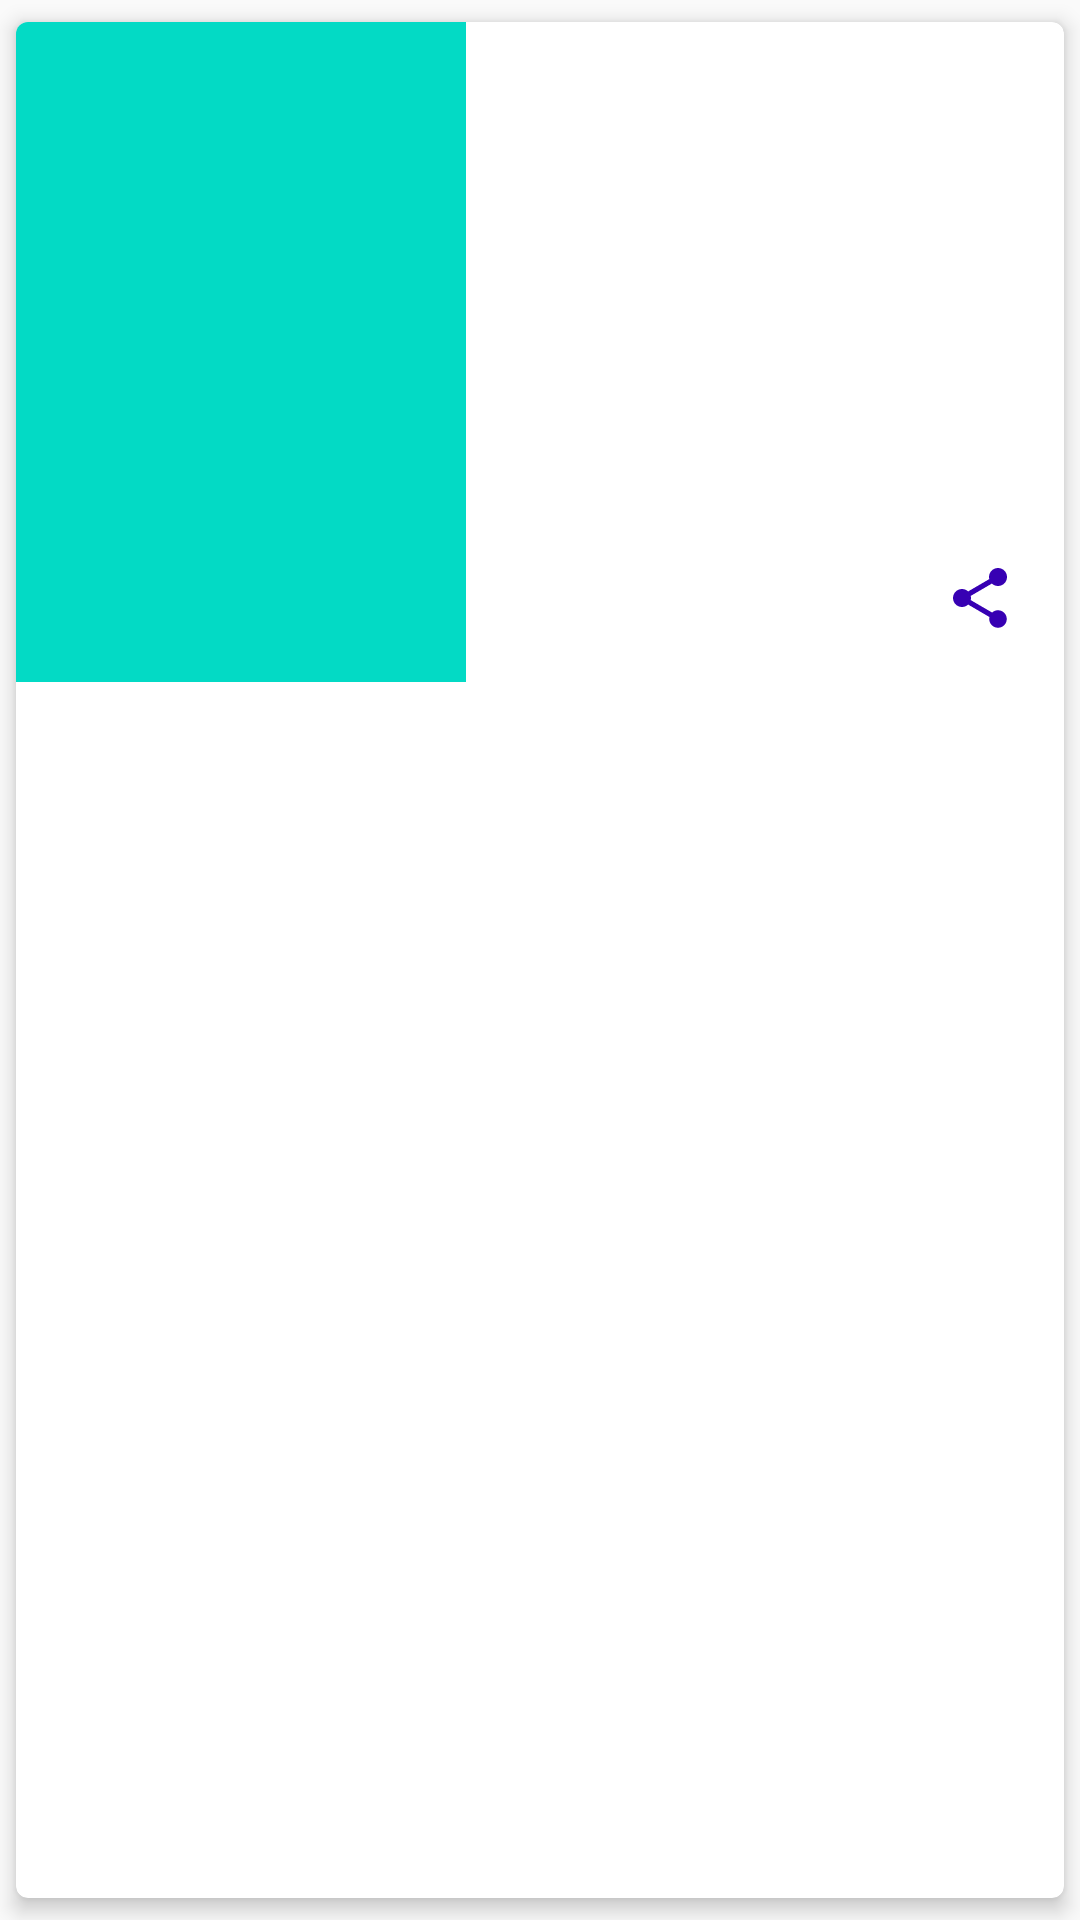

Named icons in this screenshot (1080 × 1920) and their centers, (x=x, y=y):
share: (x=980, y=598)
